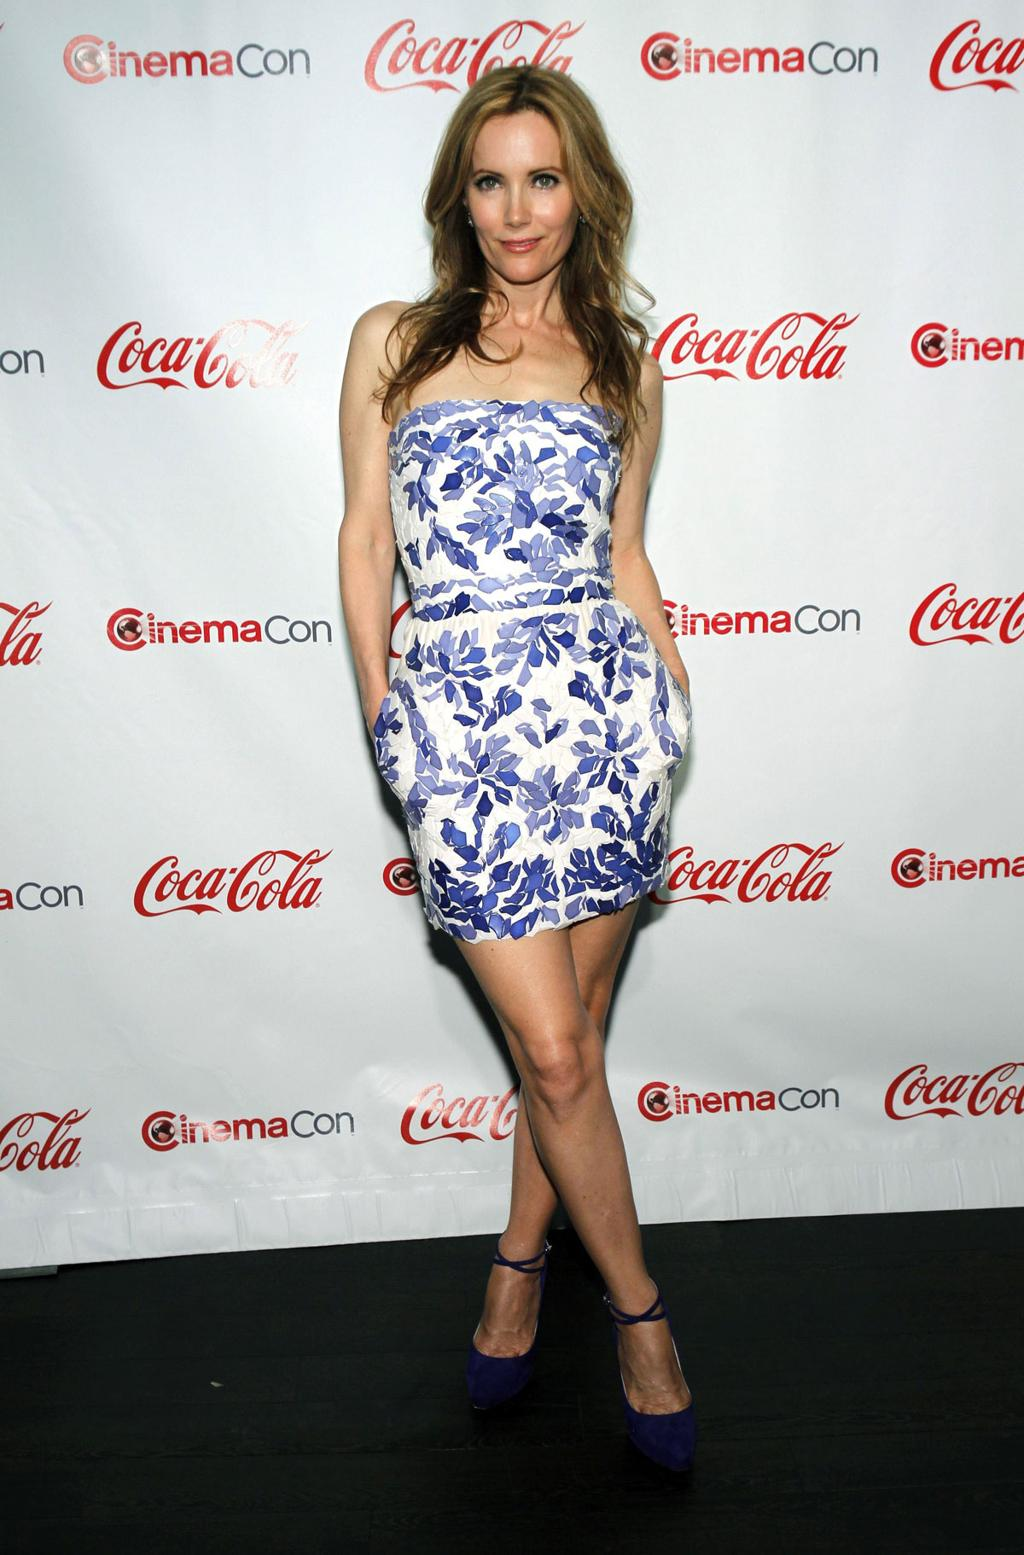face: (470, 106, 577, 286)
